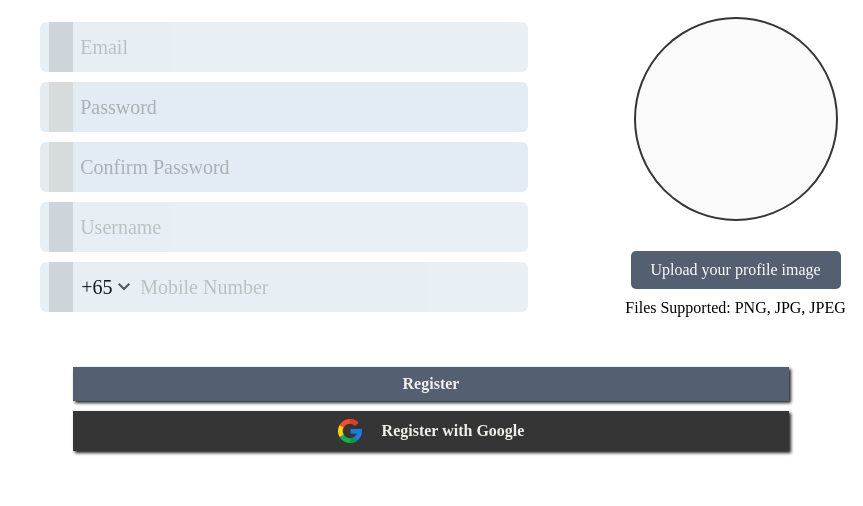
Test: Registration Form › should validate the input values before submitting
Type "testing@email.com" into the field with placeholder "Email" at (284, 47), box [40, 22, 528, 72]
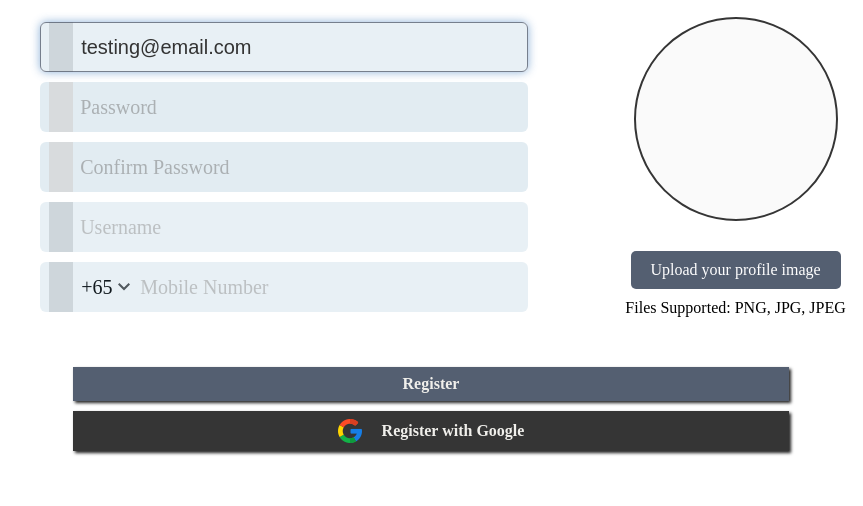
Type "12345" into the password field with placeholder "Password" at (284, 107), box [40, 82, 528, 132]
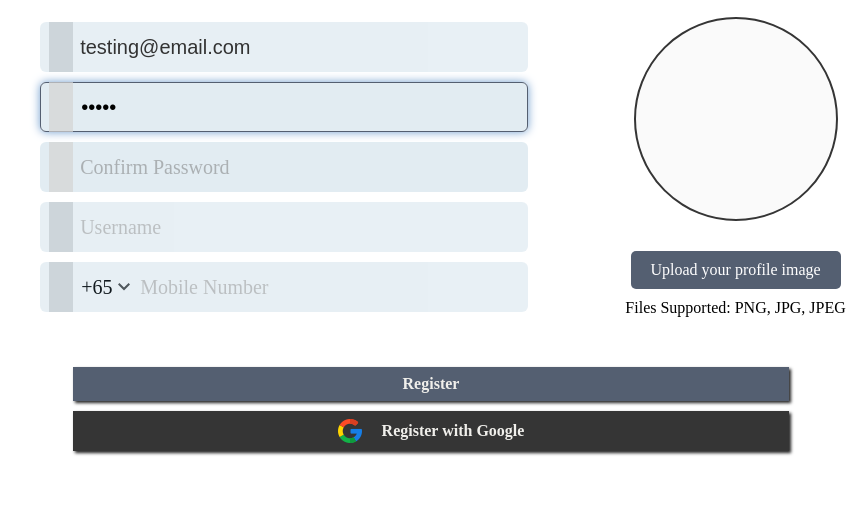
Type "12345" into the password field with placeholder "Confirm Password" at (284, 167), box [40, 142, 528, 192]
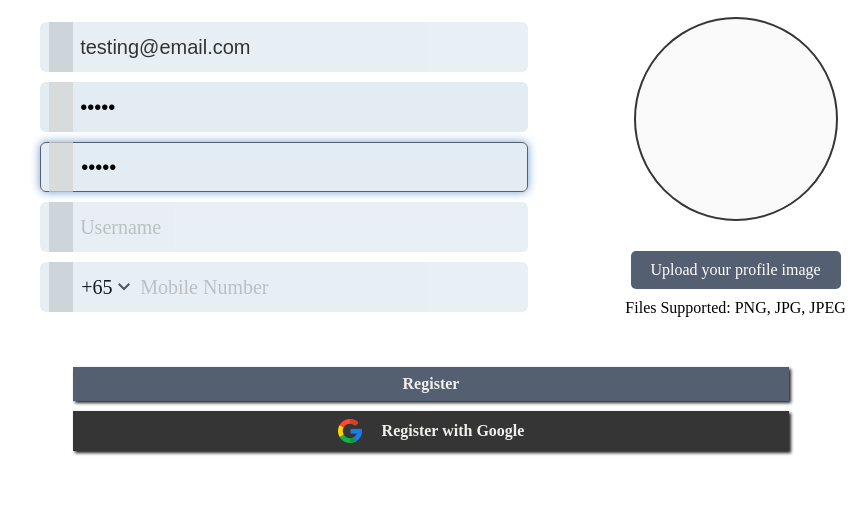
Type "shayne" into the field with placeholder "Username" at (284, 227), box [40, 202, 528, 252]
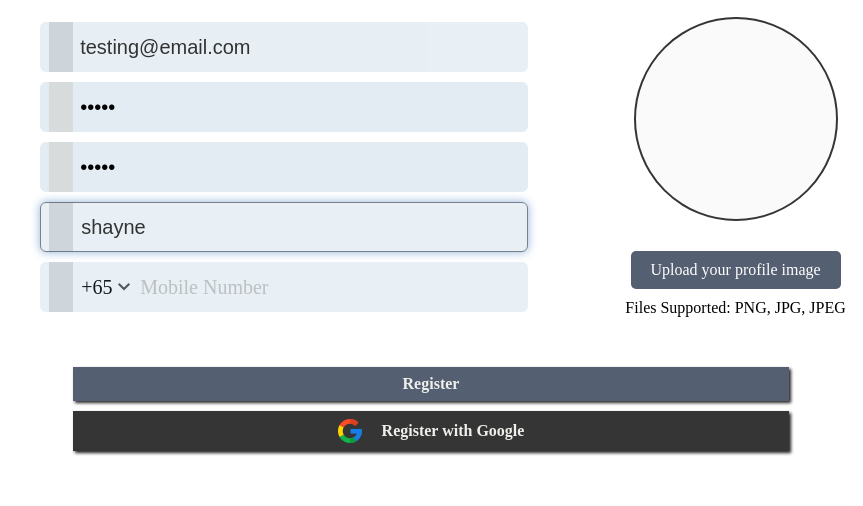
Type "+6582183334" into the field with placeholder "Mobile Number" at (284, 287), box [40, 262, 528, 312]
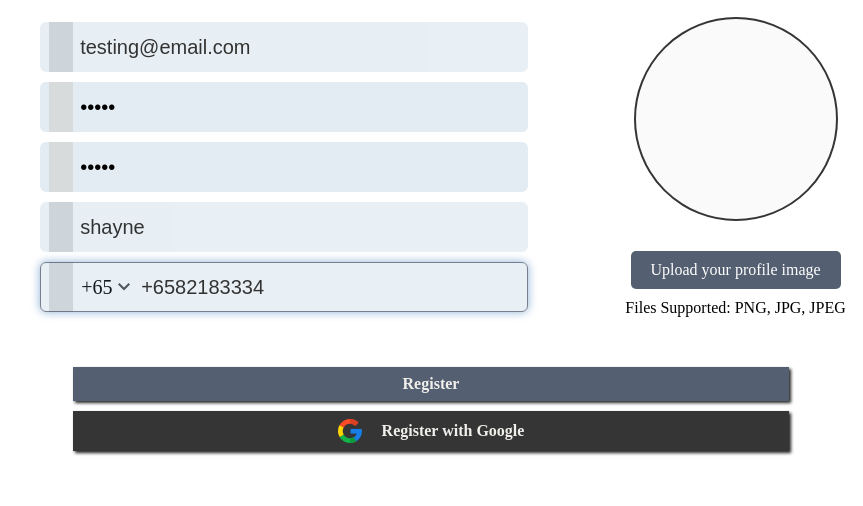
Click the button with test id "Register" at (431, 384), box [73, 367, 789, 401]
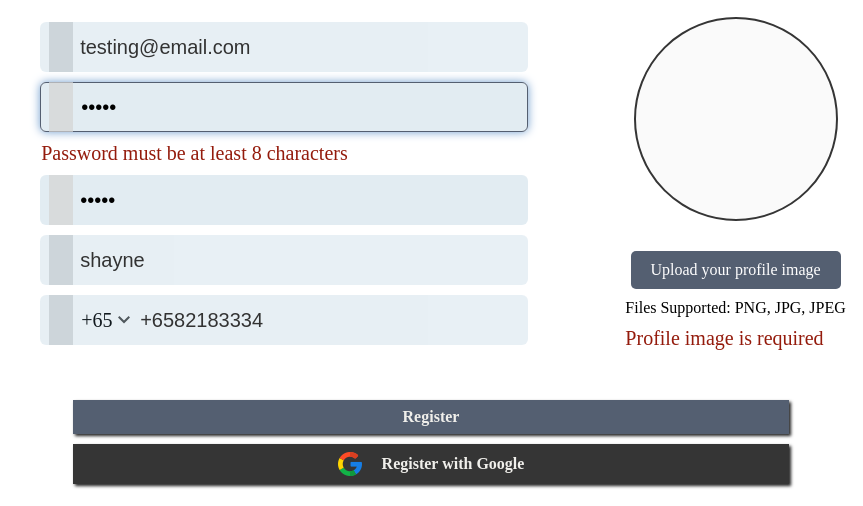
Result: the text "Password must be at least 8 characters" is shown at [16, 142, 348, 165]
